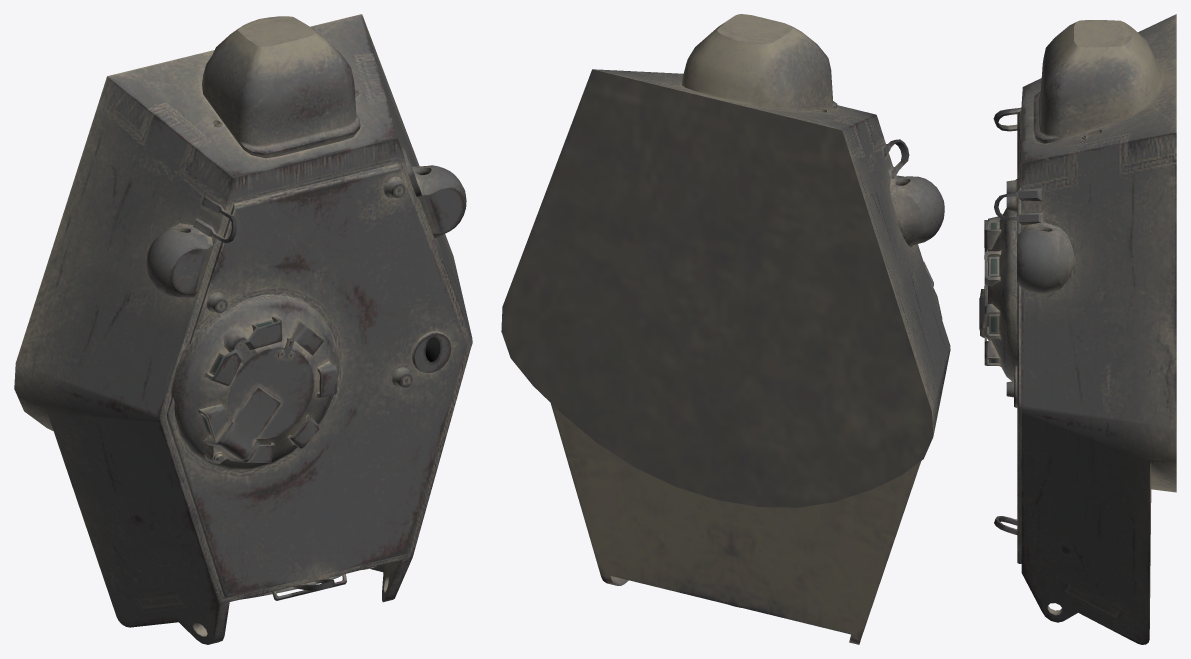
Rendered from Turret_02.glb.
3 renders of one model, left to right at view 1: azimuth 30°, elevation 25°; view 2: azimuth 150°, elevation 25°; view 3: azimuth 270°, elevation 25°, orthographic. The views are drawn at different scales.
Parts seen in each view (by area): view 1: set_0_group_0; view 2: set_0_group_0; view 3: set_0_group_0.
Part boxes in pixels (<box>): set_0_group_0: <box>14,14,472,644</box>; set_0_group_0: <box>501,14,950,644</box>; set_0_group_0: <box>979,14,1176,644</box>.
Size of the model in its own units: 2.59 by 3.26 by 1.05.
1 material, 1 textured.
